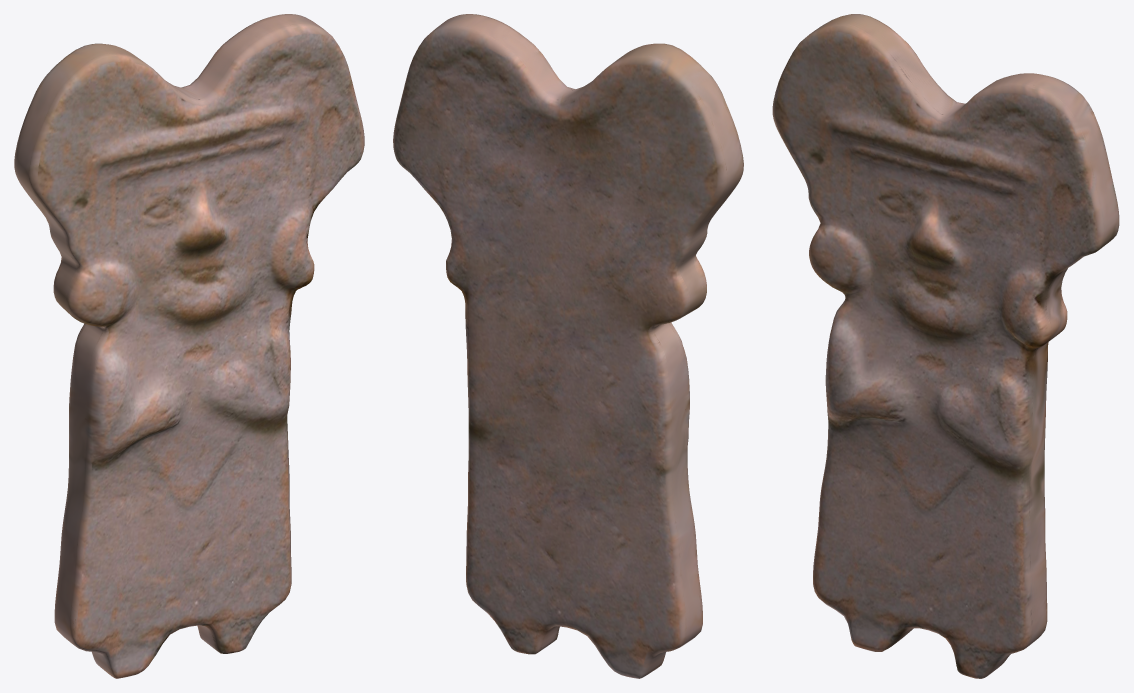
Rendered from mazapan.gltf.
The picture shows the model from 3 angles, left to right: view 1: azimuth 30°, elevation 25°; view 2: azimuth 150°, elevation 25°; view 3: azimuth 330°, elevation 25°; orthographic projection.
Parts seen in each view (by area): view 1: TablillaMazapan; view 2: TablillaMazapan; view 3: TablillaMazapan.
Boxes of the visible parts, x1=… form: TablillaMazapan: x1=14, y1=14, x2=364, y2=678; TablillaMazapan: x1=393, y1=14, x2=743, y2=678; TablillaMazapan: x1=772, y1=14, x2=1119, y2=678.
Size of the model in its own units: 17.07 by 30.6 by 2.77.
Materials: 1 (1 with a texture image).
